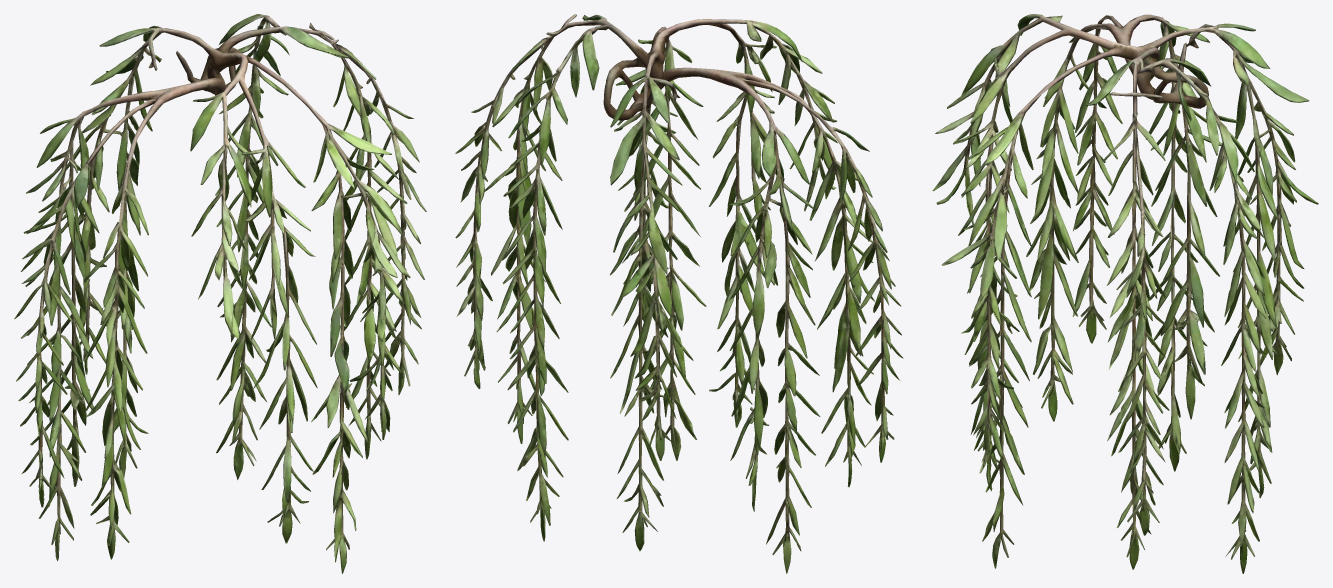
Rendered from moon_willowbranch.glb.
The picture shows the model from 3 angles, left to right: view 1: azimuth 30°, elevation 25°; view 2: azimuth 150°, elevation 25°; view 3: azimuth 270°, elevation 25°; orthographic projection. The views are drawn at different scales.
Parts seen in each view (by area): view 1: tripo_node_5bc8cb8f-a8eb-4cce-be6c-28e929844ccd; view 2: tripo_node_5bc8cb8f-a8eb-4cce-be6c-28e929844ccd; view 3: tripo_node_5bc8cb8f-a8eb-4cce-be6c-28e929844ccd.
Boxes of the visible parts, bbox=[...] form: tripo_node_5bc8cb8f-a8eb-4cce-be6c-28e929844ccd: bbox=[14, 14, 426, 573]; tripo_node_5bc8cb8f-a8eb-4cce-be6c-28e929844ccd: bbox=[455, 14, 903, 573]; tripo_node_5bc8cb8f-a8eb-4cce-be6c-28e929844ccd: bbox=[932, 14, 1318, 573].
Size of the model in its own units: 0.873 by 0.9798 by 0.6655.
1 material, 1 textured.
